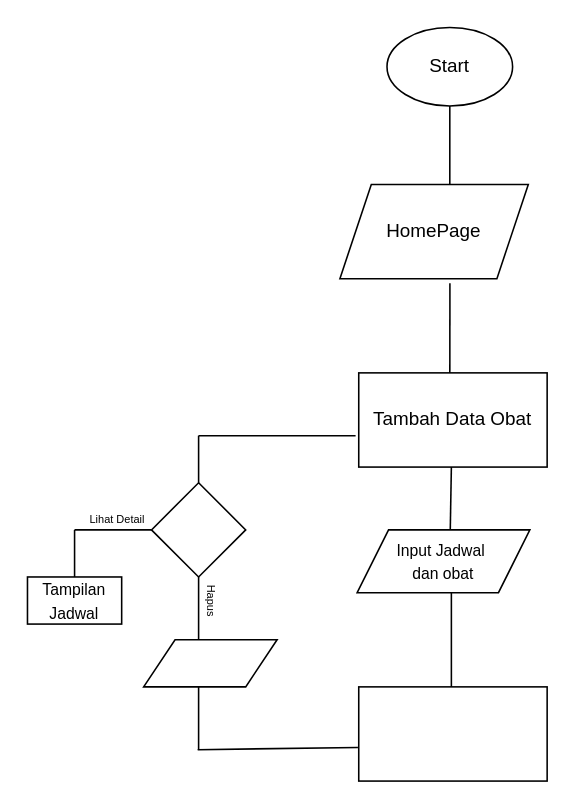
Image size: 575x809. Some labels were removed from this diagram. The shapes that lost their labels are listed below. From the top down, each one's centre as x and y in pixels, then its label:
At [209,662]: "data terhapus".
At [452,733]: "Simpan ke database".
